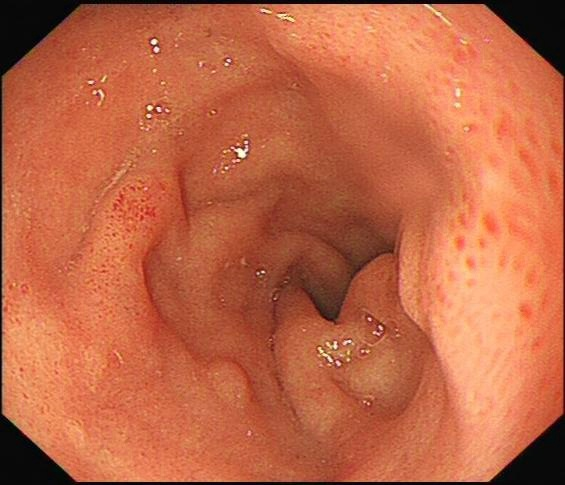Polyp: (199, 354, 251, 408)
